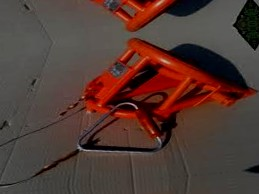chock: (76, 25, 259, 130), (68, 0, 252, 38)
